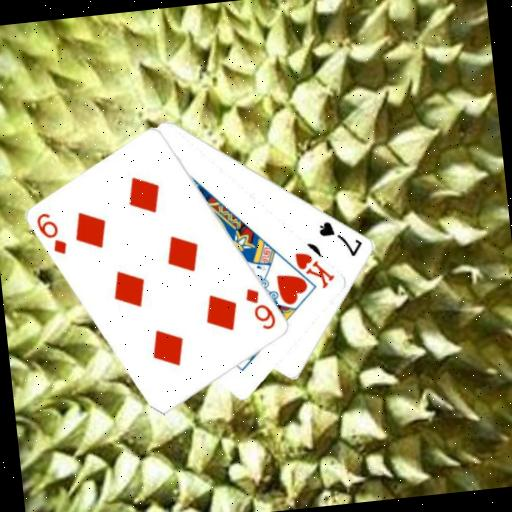6D: (33, 208, 70, 260), (242, 283, 279, 334)
7S: (314, 215, 366, 262)
KH: (291, 246, 338, 294)
